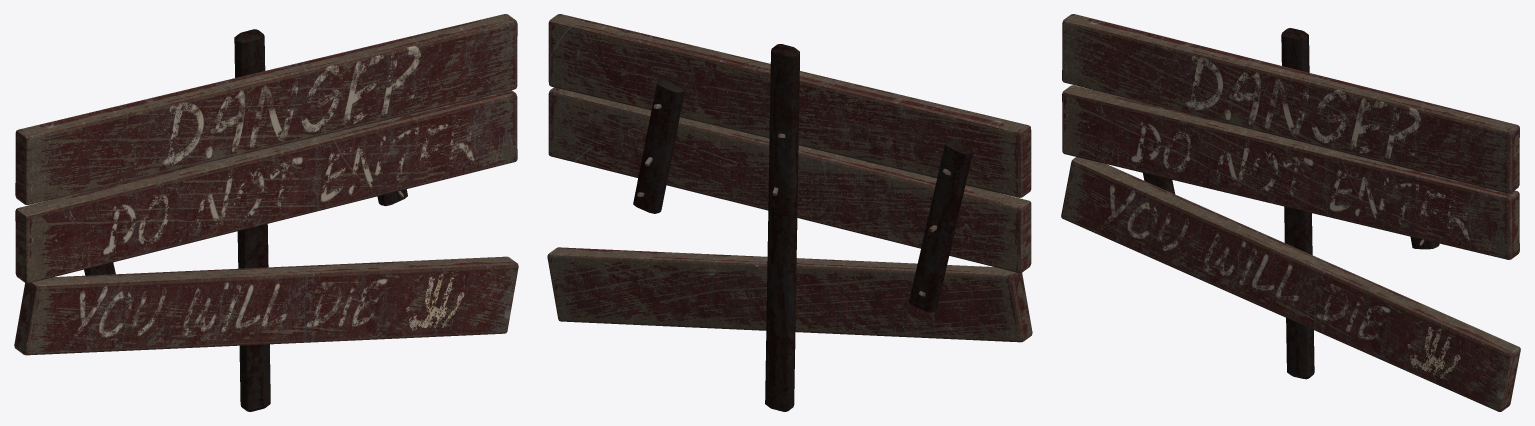
3 renders of one model, left to right at view 1: azimuth 30°, elevation 25°; view 2: azimuth 150°, elevation 25°; view 3: azimuth 330°, elevation 25°, orthographic. The views are drawn at different scales.
Parts seen in each view (by area): view 1: polySurface4 polySurface2 label:pCube14groupgroup group grou, polySurface6 group1_0; view 2: polySurface4 polySurface2 label:pCube14groupgroup group grou, polySurface6 group1_0; view 3: polySurface4 polySurface2 label:pCube14groupgroup group grou, polySurface6 group1_0.
Part boxes in pixels (x1,y1,x2,y2): polySurface4 polySurface2 label:pCube14groupgroup group grou: (14, 14, 518, 355); polySurface6 group1_0: (84, 29, 407, 411); polySurface4 polySurface2 label:pCube14groupgroup group grou: (547, 14, 1032, 342); polySurface6 group1_0: (633, 44, 973, 411); polySurface4 polySurface2 label:pCube14groupgroup group grou: (1061, 14, 1520, 411); polySurface6 group1_0: (1143, 28, 1439, 379).
Bounding box in the file's own units: 7.48 × 5.45 × 0.7114.
3 materials, 3 textured.
